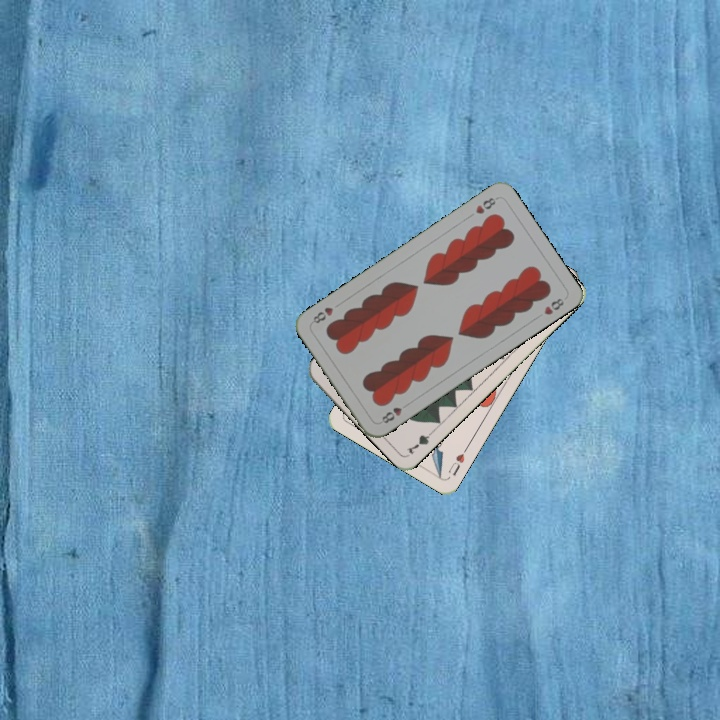G7: (402, 425, 438, 457)
H8: (378, 399, 412, 426), (471, 193, 501, 217)
HU: (444, 443, 470, 479)
